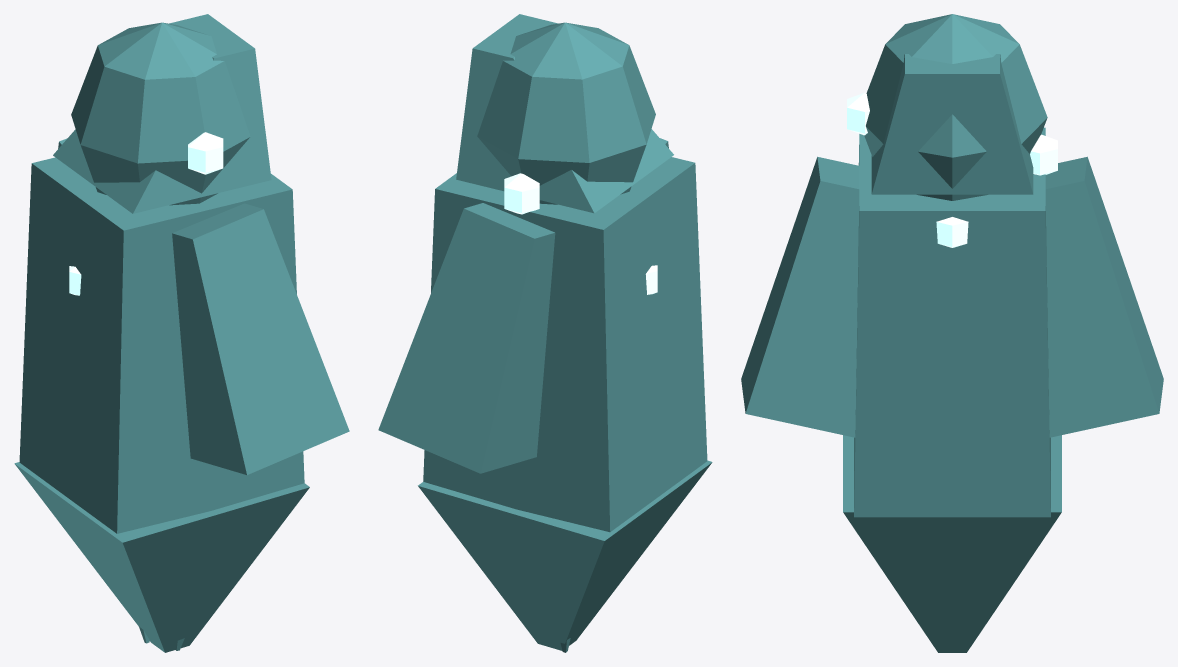
The model's file is siren.glb.
3 views of the same model, side by side, from view 1: azimuth 30°, elevation 25°; view 2: azimuth 150°, elevation 25°; view 3: azimuth 270°, elevation 25° (orthographic).
Visible parts, largest first — view 1: body, armR, head, wisp3; view 2: body, armL, head, wisp1; view 3: body, head, armR, armL, wisp1, wisp0, wisp3.
Boxes of the visible parts, box(x1,y1,x2,y2) form: body: box(14, 157, 309, 652); armR: box(172, 203, 349, 474); head: box(53, 14, 271, 213); wisp3: box(188, 132, 223, 174); body: box(418, 157, 712, 650); armL: box(378, 203, 555, 473); head: box(456, 14, 673, 213); wisp1: box(504, 173, 539, 214); body: box(843, 127, 1061, 652); head: box(864, 14, 1047, 200); armR: box(741, 156, 859, 437); armL: box(1045, 156, 1163, 437); wisp1: box(1030, 134, 1057, 175); wisp0: box(936, 217, 968, 247); wisp3: box(847, 92, 869, 135).
Size of the model in its own units: 0.46 by 1.46 by 0.8885.
